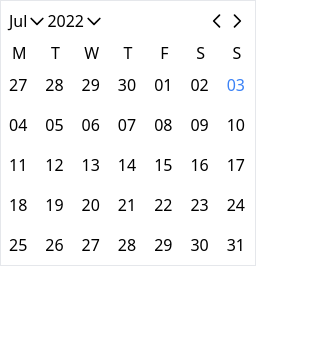
Test: Calendar › highlghts correct year in dropdown
Click the icon with test id "yearDropdownTrigger". click: (94, 21)
box: [84,11,104,31]
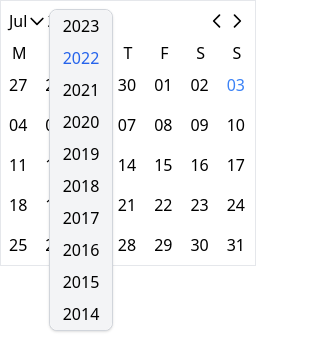
Expected: the list item "2022" is shown, [50,42,112,74]
